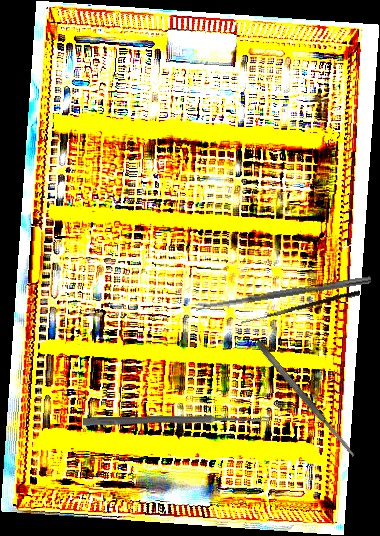Hook Surgical: (240, 288, 361, 329)
Spatula Surgical: (254, 339, 357, 459)
Surgical Spoon: (194, 275, 372, 311), (82, 414, 270, 427)
